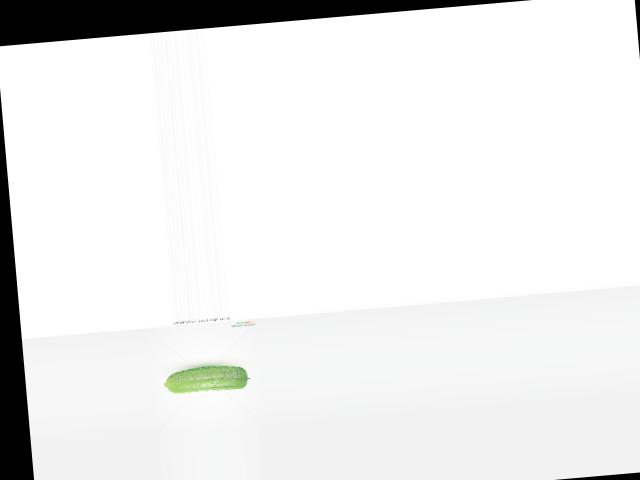cucumber: (161, 363, 251, 395)
